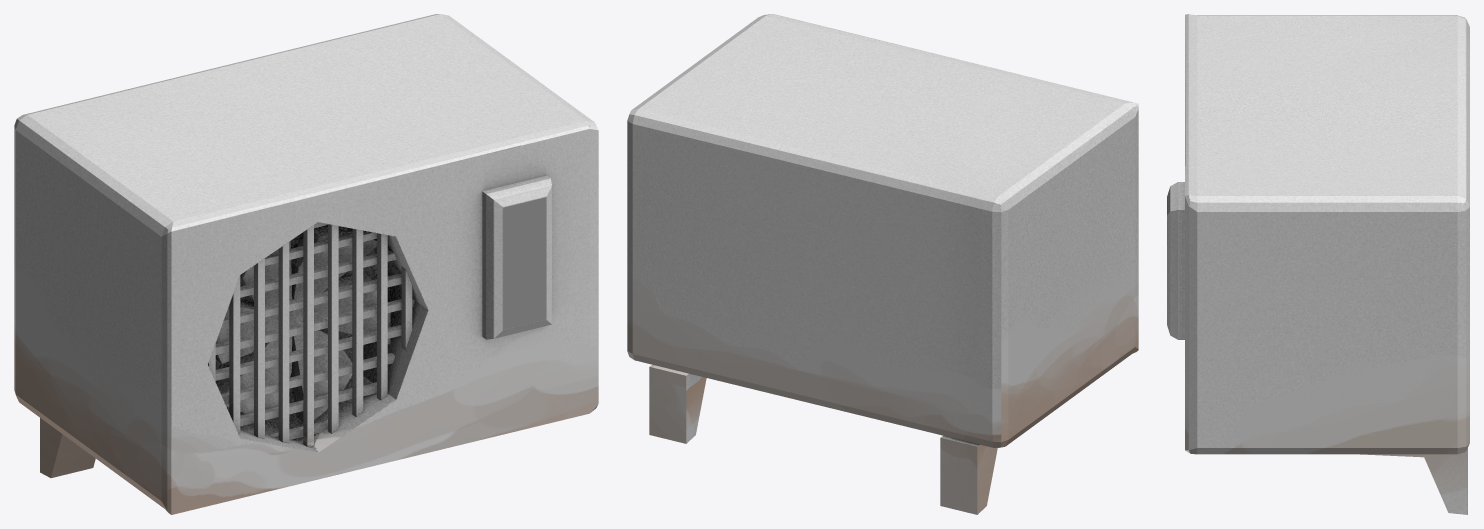
The model's file is P_AC_EXHAUST_WALL.fbx.
3 renders of one model, left to right at view 1: azimuth 30°, elevation 25°; view 2: azimuth 150°, elevation 25°; view 3: azimuth 270°, elevation 25°, orthographic. The views are drawn at different scales.
Visible parts, largest first — view 1: AC_Exhaust_Wall; view 2: AC_Exhaust_Wall; view 3: AC_Exhaust_Wall.
Part boxes in pixels (x1=…): AC_Exhaust_Wall: x1=14, y1=14, x2=598, y2=514; AC_Exhaust_Wall: x1=627, y1=14, x2=1138, y2=514; AC_Exhaust_Wall: x1=1167, y1=14, x2=1469, y2=514.
Size of the model in its own units: 128 by 103 by 86.28.
